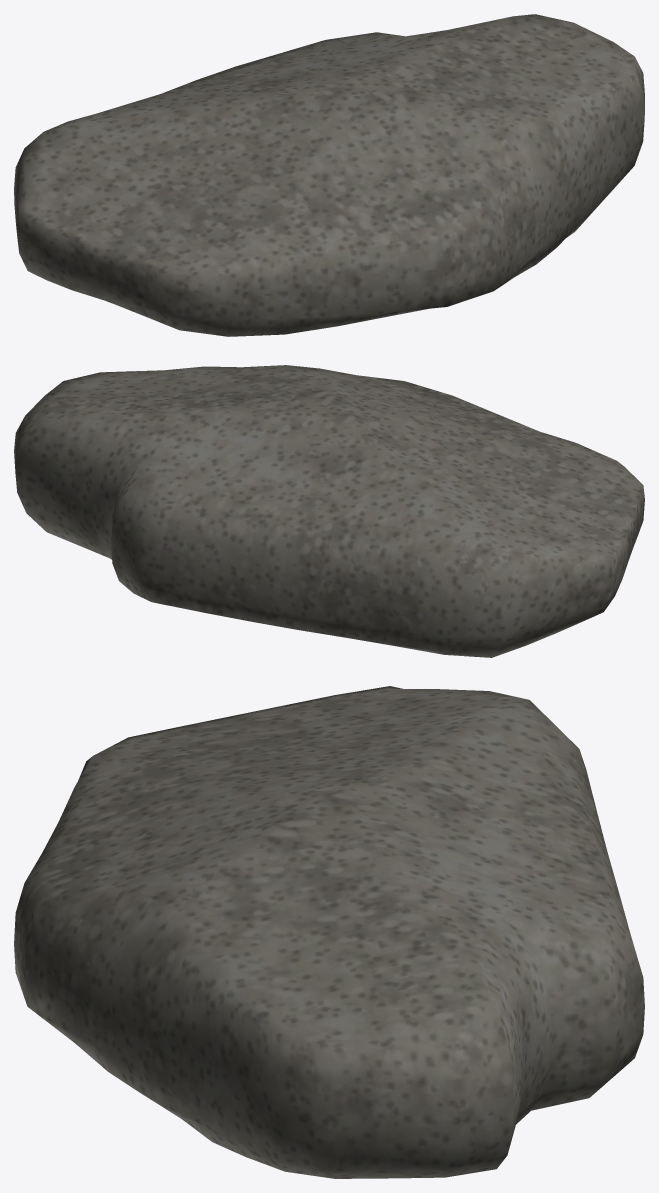
Rendered from jagged_gravel_01.glb.
3 renders of one model, top to bottom at view 1: azimuth 30°, elevation 25°; view 2: azimuth 150°, elevation 25°; view 3: azimuth 270°, elevation 25°, orthographic. The views are drawn at different scales.
Visible parts, largest first — view 1: jagged_gravel_01; view 2: jagged_gravel_01; view 3: jagged_gravel_01.
Part boxes in pixels (<box>): jagged_gravel_01: <box>14,14,644,336</box>; jagged_gravel_01: <box>14,365,644,657</box>; jagged_gravel_01: <box>14,686,644,1178</box>.
Size of the model in its own units: 0.0738 by 0.0209 by 0.0481.
Materials: 1 (1 with a texture image).
